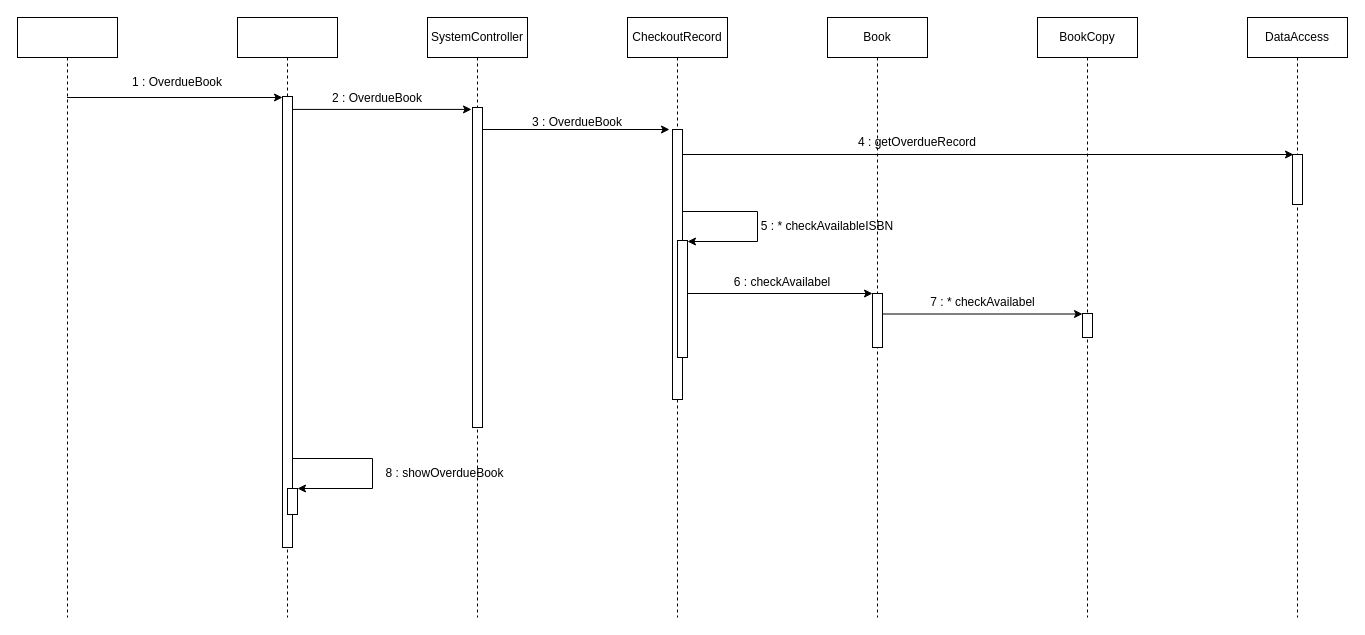
Some shapes in this 1365 by 635 pixel diagram are drawn without their labels. The shapes that lost their labels are listed below. From the top down, each one's box as (x1, y1, x2, y2) in pixels, then its label:
(16, 16, 118, 618): <<Actor>> Administrator
(236, 16, 338, 618): UI
